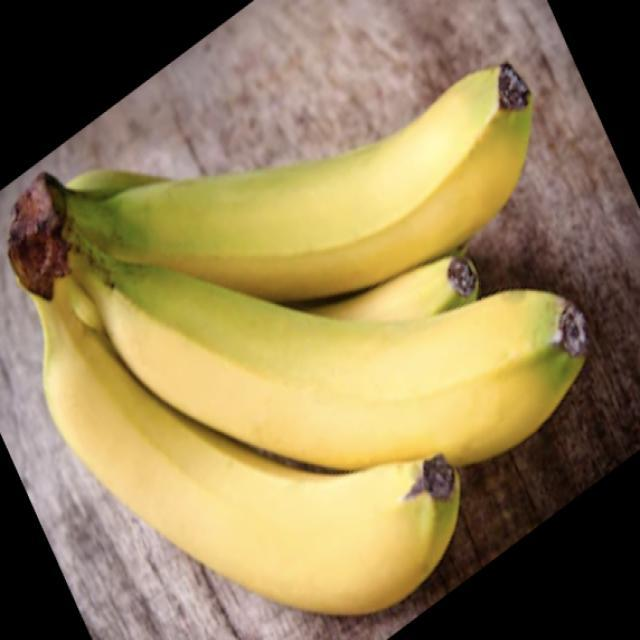Banana: (29, 59, 586, 612)
